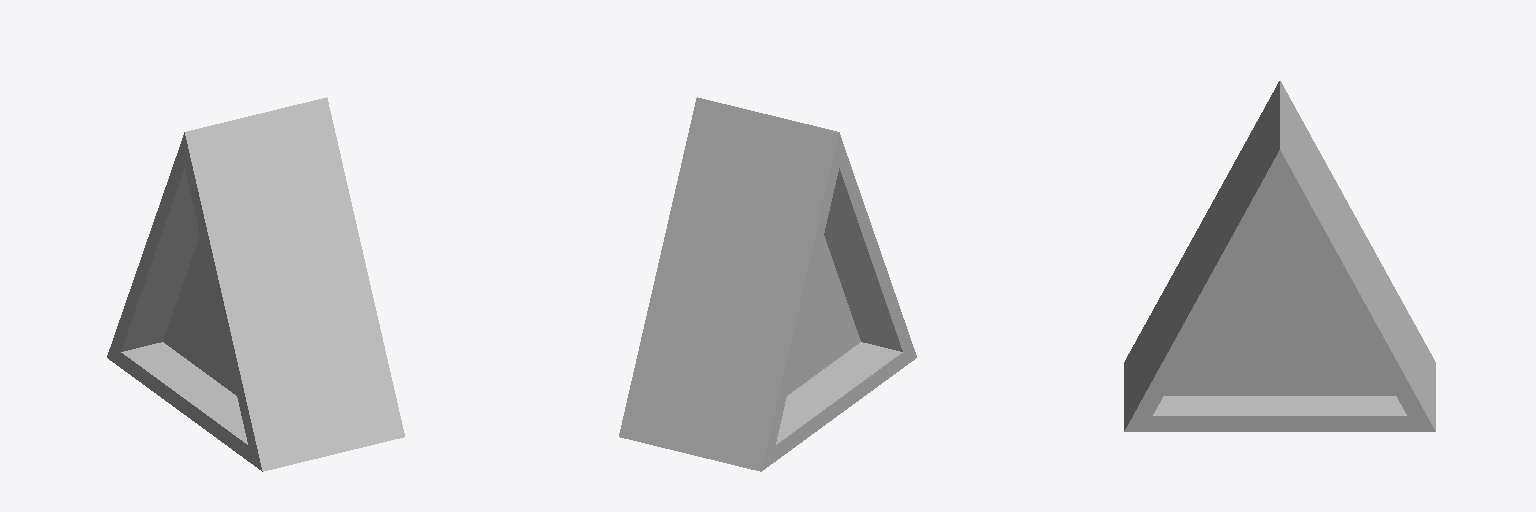
The model's file is triangle.obj.
The picture shows the model from 3 angles: view 1: azimuth 30°, elevation 25°; view 2: azimuth 150°, elevation 25°; view 3: azimuth 270°, elevation 25°; orthographic projection.
Parts seen in each view (by area): view 1: Cube.001_Cube.002; view 2: Cube.001_Cube.002; view 3: Cube.001_Cube.002.
Part boxes in pixels (left/top/right/bottom): Cube.001_Cube.002: left=107, top=97, right=404, bottom=471; Cube.001_Cube.002: left=619, top=97, right=916, bottom=471; Cube.001_Cube.002: left=1124, top=81, right=1435, bottom=431.
Size of the model in its own units: 1.06 by 2 by 2.